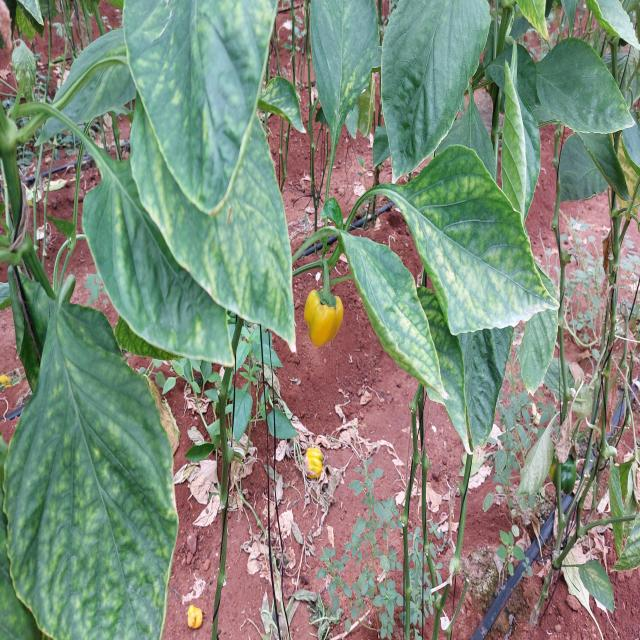Yellow-Ready-to-Harvest: (304, 284, 344, 348)
